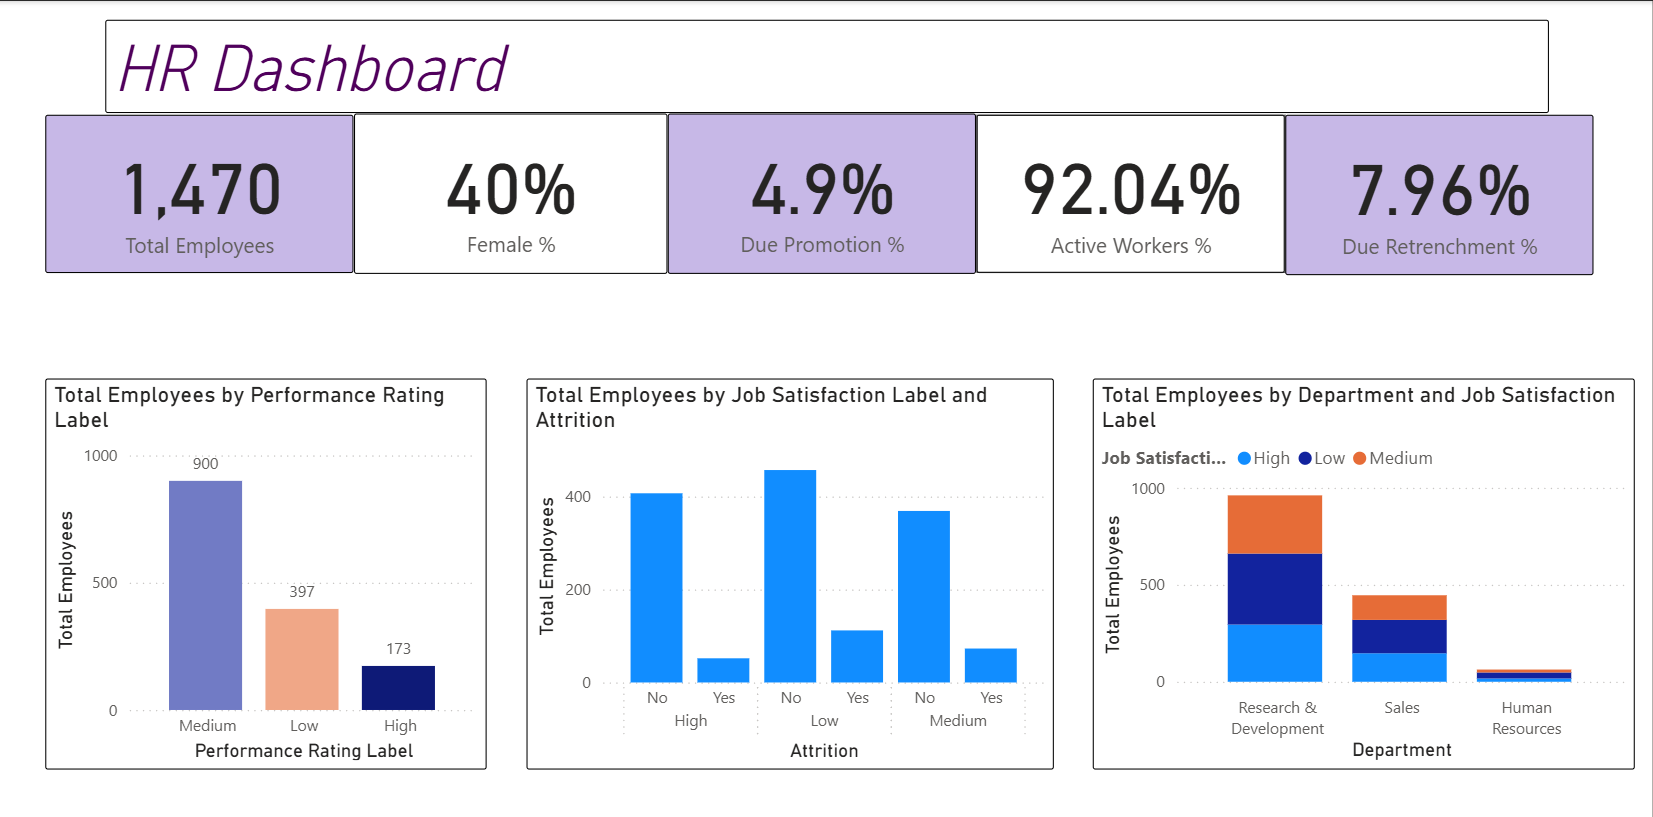

Layout of this report page (visuals, bound fields, positions):
{"tool":"powerbi","page":{"name":"Page 1","canvas":[1280,720],"ordinal":0},"visuals":[{"type":"card","fields":{"Values":["Measures Table.Total Employees"]},"box":[54.4,86.8,235.6,121.1],"z":0},{"type":"card","fields":{"Values":["Measures Table.Active Workers %"]},"box":[764.9,86.8,235.6,121.1],"z":2},{"type":"card","fields":{"Values":["Measures Table.Due Promotion %"]},"box":[529.4,85.8,235.6,122.1],"z":3},{"type":"card","fields":{"Values":["Measures Table.Due Retrenchment %"]},"box":[1000.5,86.8,235.6,122.1],"z":4},{"type":"clusteredColumnChart","fields":{"Y":["Measures Table.Total Employees"],"Category":["HR Analytics Data.Performance Rating Label"]},"box":[54.4,288,336.7,298.5],"z":5},{"type":"clusteredColumnChart","fields":{"Category":["HR Analytics Data.Job Satisfaction Label","HR Analytics Data.Attrition"],"Y":["Measures Table.Total Employees"]},"box":[421.6,288,402.5,298.5],"z":6},{"type":"card","fields":{"Values":["Measures Table.Female %"]},"box":[290,85.8,239.4,122.1],"z":7},{"type":"columnChart","fields":{"Y":["Measures Table.Total Employees"],"Category":["HR Analytics Data.Department"],"Series":["HR Analytics Data.Job Satisfaction Label"]},"box":[853.7,288,413.9,298.5],"z":8},{"type":"textbox","box":[100.1,14.3,1101.6,71.5],"z":9}]}

Visuals, with their boxes on the page's 1280x720 design canvas (x1, y1, x2, y2). These are canvas units, not pixel positions in the 1653x817 screenshot, which may show the page scaled, cropped or inside an application window:
card - Measures Table.Total Employees: [left=54, top=87, right=290, bottom=208]
card - Measures Table.Active Workers %: [left=765, top=87, right=1000, bottom=208]
card - Measures Table.Due Promotion %: [left=529, top=86, right=765, bottom=208]
card - Measures Table.Due Retrenchment %: [left=1000, top=87, right=1236, bottom=209]
clusteredColumnChart - Measures Table.Total Employees x HR Analytics Data.Performance Rating Label: [left=54, top=288, right=391, bottom=586]
clusteredColumnChart - HR Analytics Data.Job Satisfaction Label x HR Analytics Data.Attrition: [left=422, top=288, right=824, bottom=586]
card - Measures Table.Female %: [left=290, top=86, right=529, bottom=208]
columnChart - Measures Table.Total Employees x HR Analytics Data.Department: [left=854, top=288, right=1268, bottom=586]
textbox: [left=100, top=14, right=1202, bottom=86]
